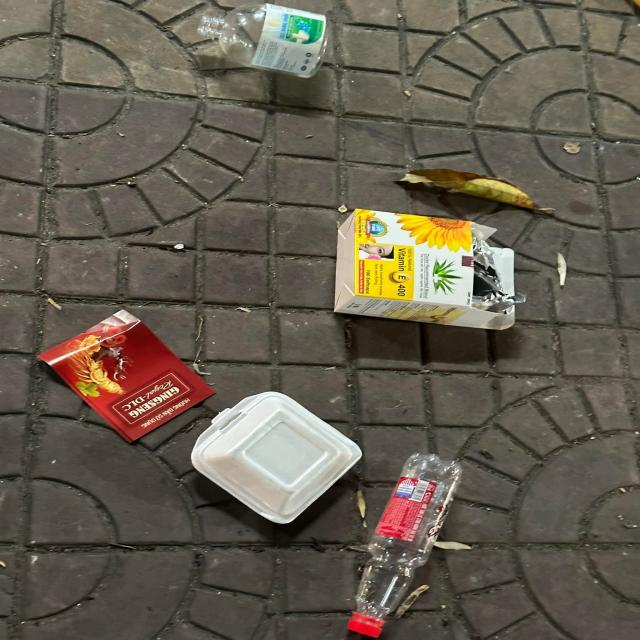bottle: (346, 451, 466, 640), (196, 2, 332, 79)
cardboard box: (333, 209, 517, 331)
foam box: (191, 391, 363, 524)
paper: (35, 308, 216, 444)
